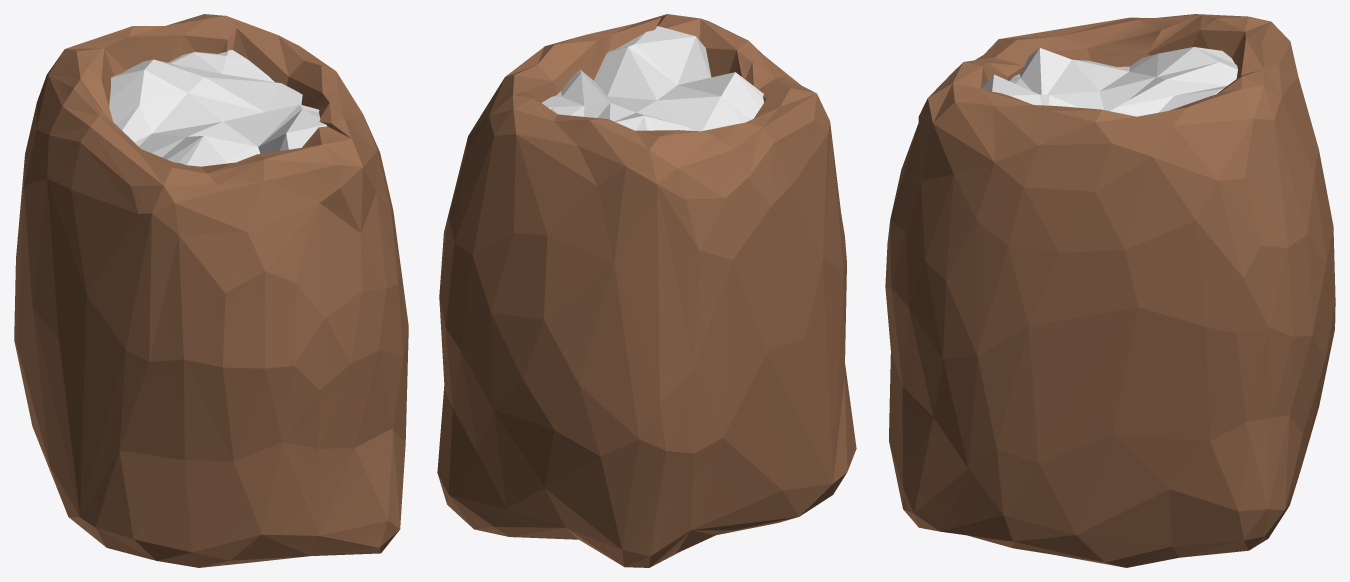
Rendered from flour bag.fbx.
The picture shows the model from 3 angles, left to right: view 1: azimuth 30°, elevation 25°; view 2: azimuth 150°, elevation 25°; view 3: azimuth 270°, elevation 25°; orthographic projection. The views are drawn at different scales.
Visible parts, largest first — view 1: Cube; view 2: Cube; view 3: Cube.
Part boxes in pixels (x1,y1,x2,y2): Cube: (14, 14, 408, 567); Cube: (437, 14, 856, 567); Cube: (885, 14, 1335, 567).
Bounding box in the file's own units: 106 × 146 × 129.
